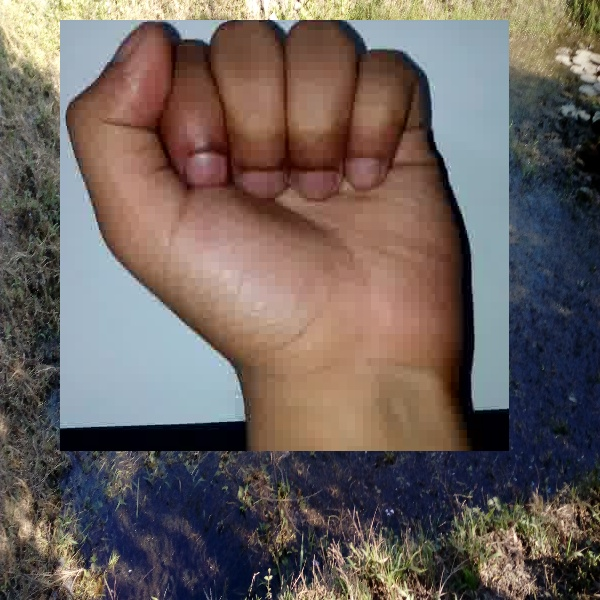A: (60, 20, 509, 451)
